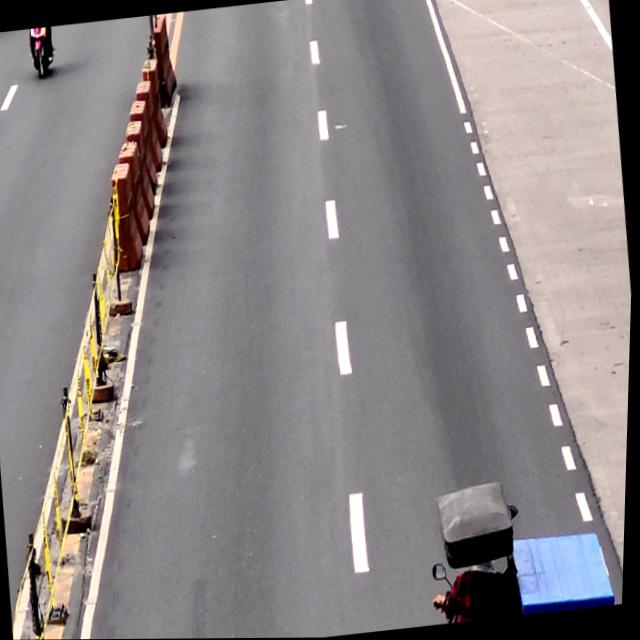Tricycle: (430, 470, 621, 624)
